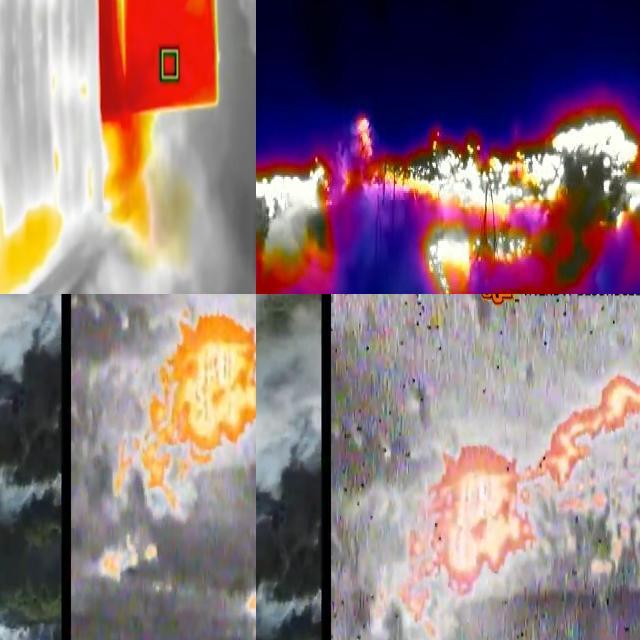fire: (351, 98, 640, 295), (373, 437, 531, 640), (112, 314, 257, 516), (529, 373, 640, 593), (257, 152, 339, 295), (101, 116, 158, 238), (100, 536, 160, 586), (245, 585, 257, 635)
